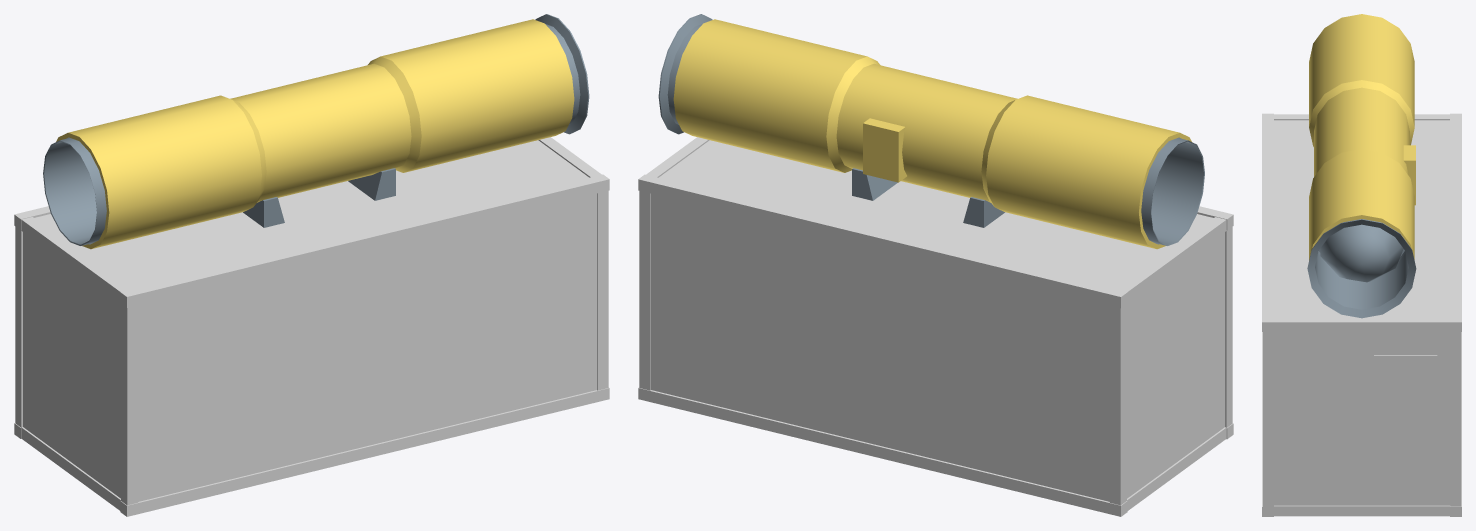
Rendered from Serpent_ventilation_550_v.fbx.
3 views of the same model, side by side, from view 1: azimuth 30°, elevation 25°; view 2: azimuth 150°, elevation 25°; view 3: azimuth 270°, elevation 25° (orthographic). The views are drawn at different scales.
Visible parts, largest first — view 1: Container, Serpent Ventilation; view 2: Container, Serpent Ventilation; view 3: Container, Serpent Ventilation.
Boxes of the visible parts, box(x1,y1,x2,y2) form: Container: box(14, 137, 609, 516); Serpent Ventilation: box(43, 14, 589, 249); Container: box(638, 137, 1233, 516); Serpent Ventilation: box(658, 14, 1204, 249); Container: box(1262, 113, 1461, 516); Serpent Ventilation: box(1307, 14, 1416, 318).
Bounding box in the file's own units: 613 × 406 × 245.
